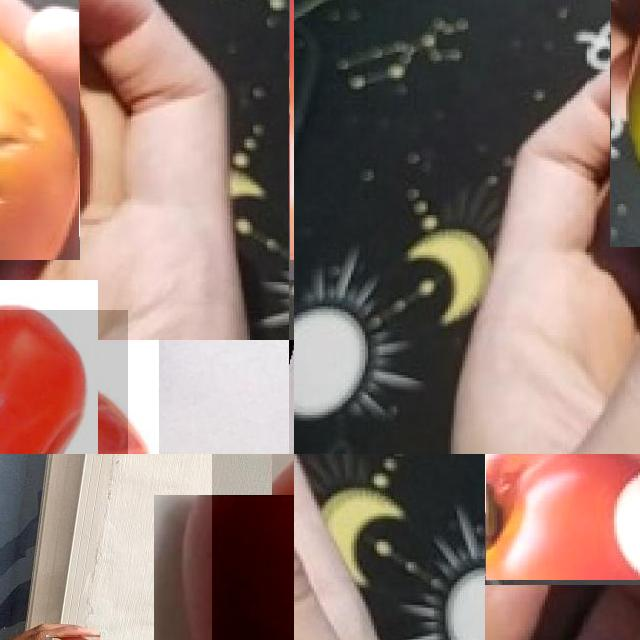Fresh Tomato: (485, 454, 640, 580), (212, 454, 294, 640)
Rotten Tomato: (0, 0, 79, 260), (0, 310, 128, 454)
